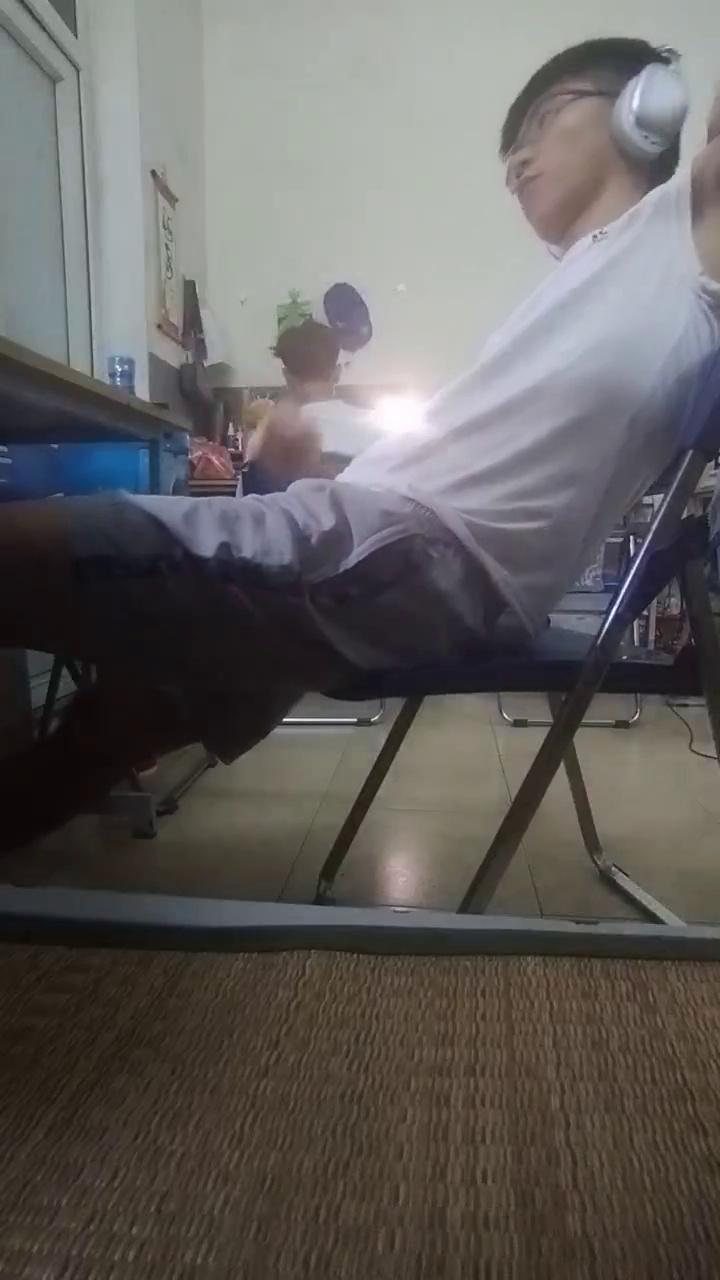BadPosture: (0, 38, 719, 855)
